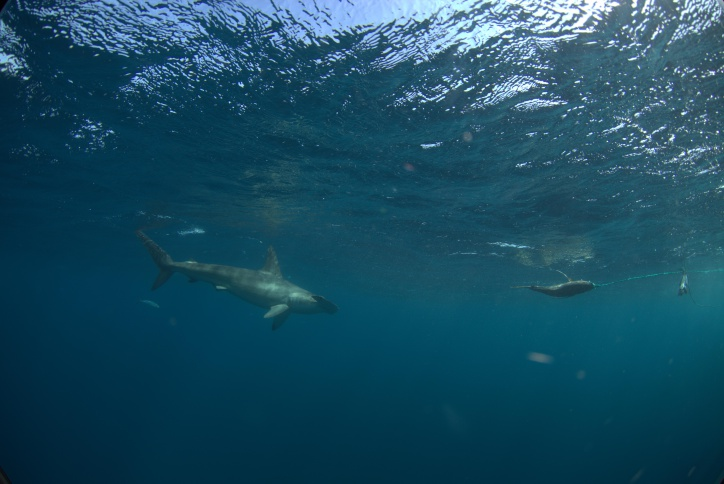Hammer: (129, 217, 355, 345)
